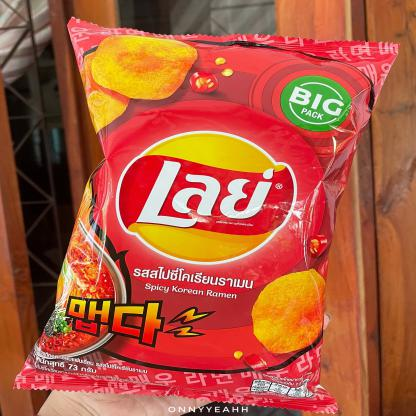potatochip: (1, 11, 410, 415)
